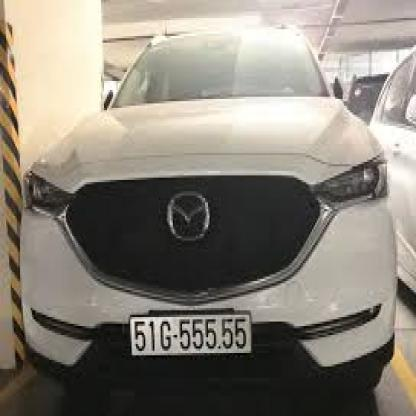biensoxe: (129, 312, 254, 360)
